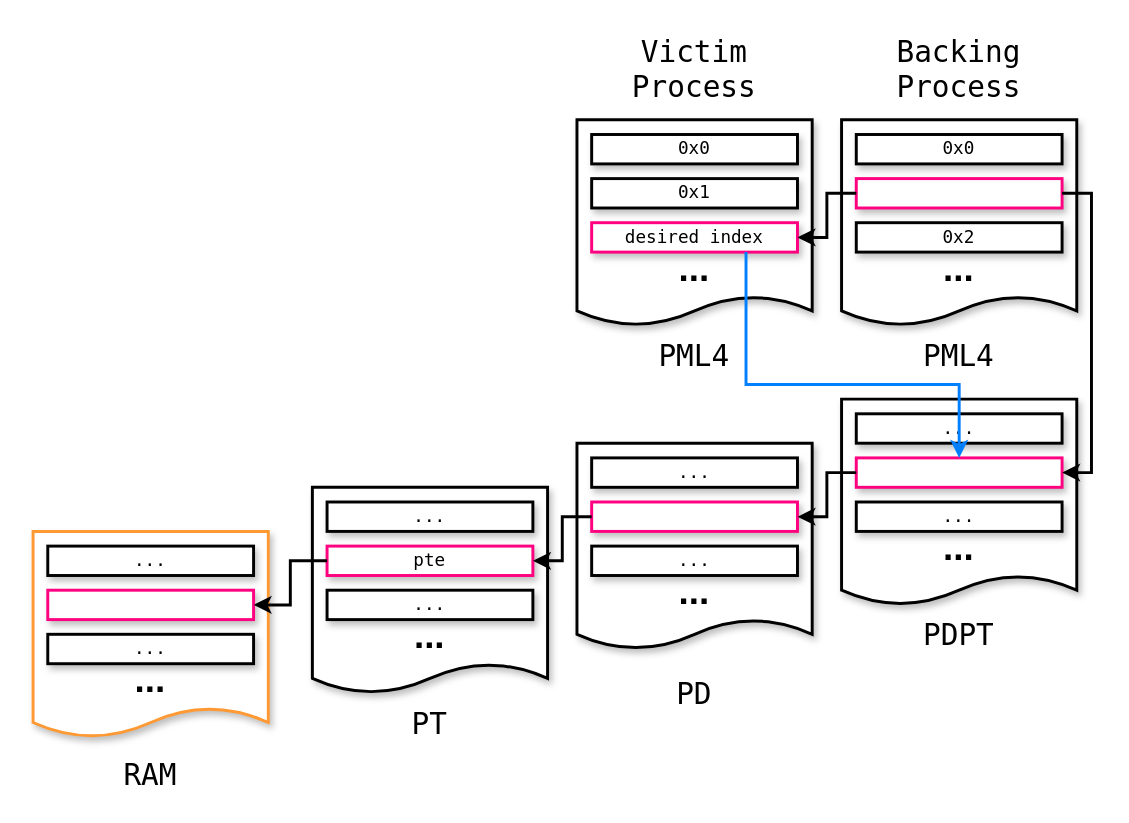
This 1129x823 diagram has some shape labels left out. Here are the shapes that lost their labels. From the top down, the centre of each, then its label:
pixel 960 195: backing pml4e
pixel 960 474: pdpe
pixel 695 518: pde
pixel 151 606: physical address
